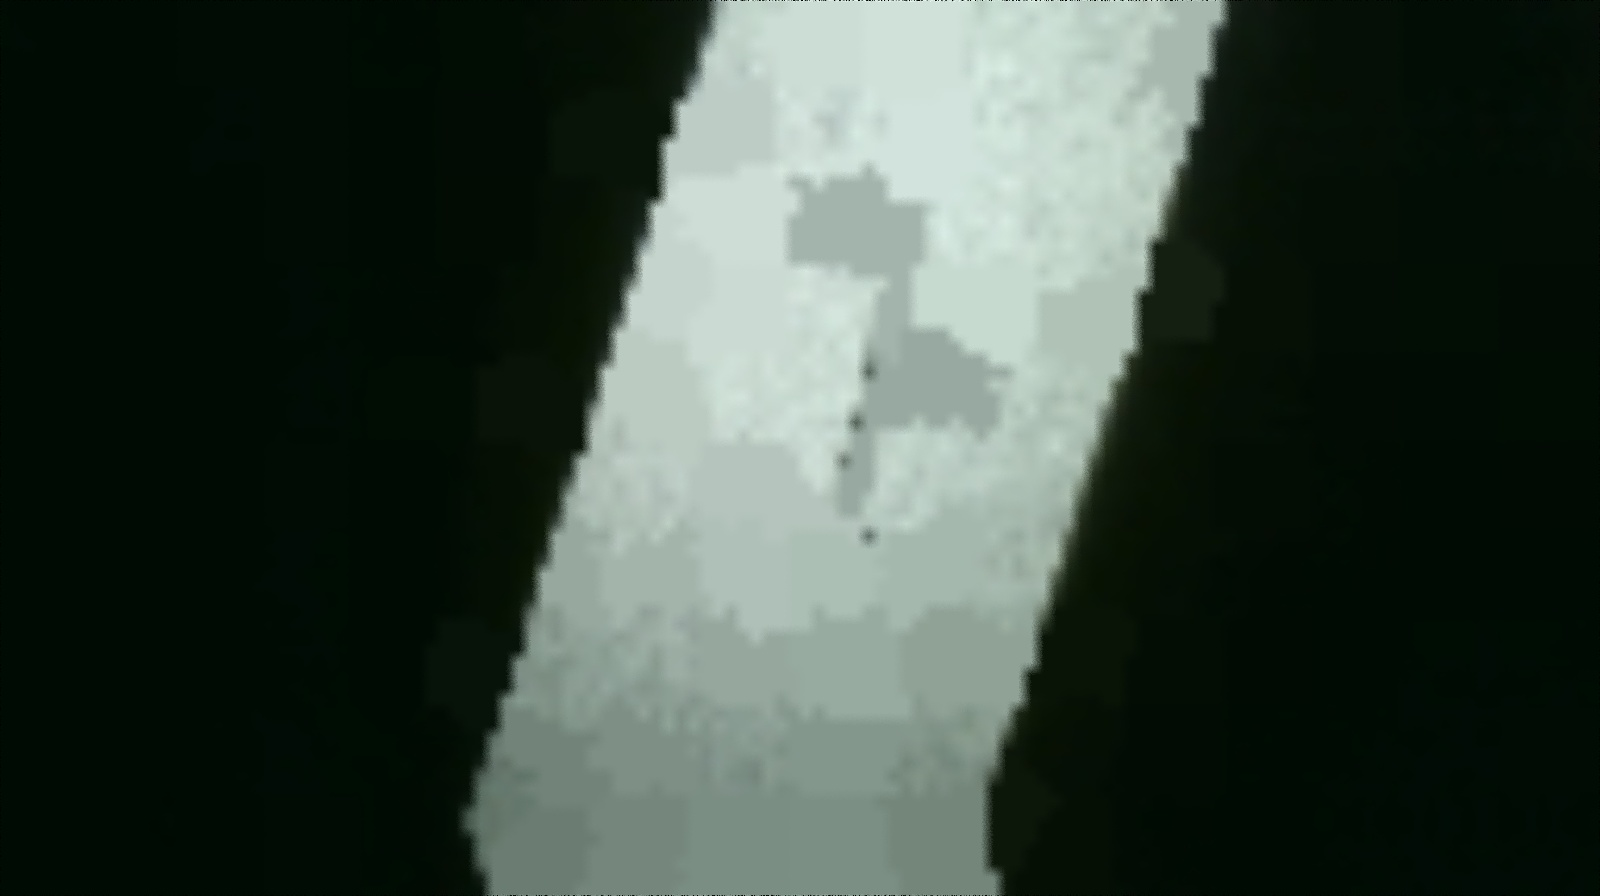S002: (790, 186, 946, 554)
